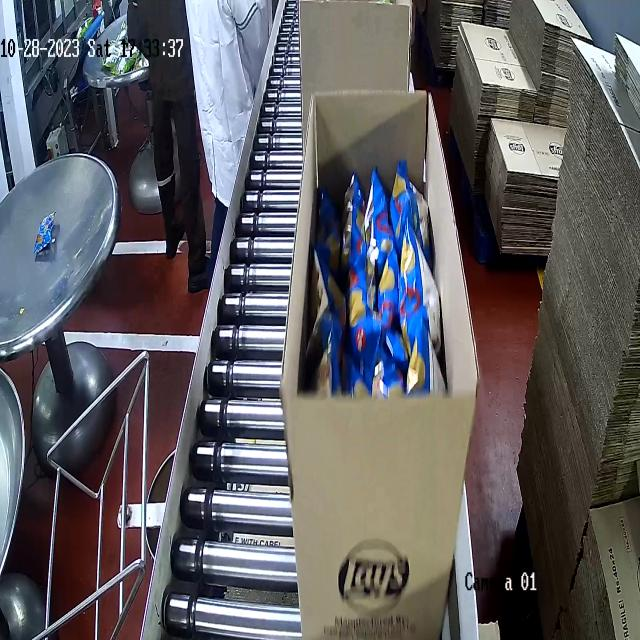PAPRIKA: (313, 166, 444, 384)
